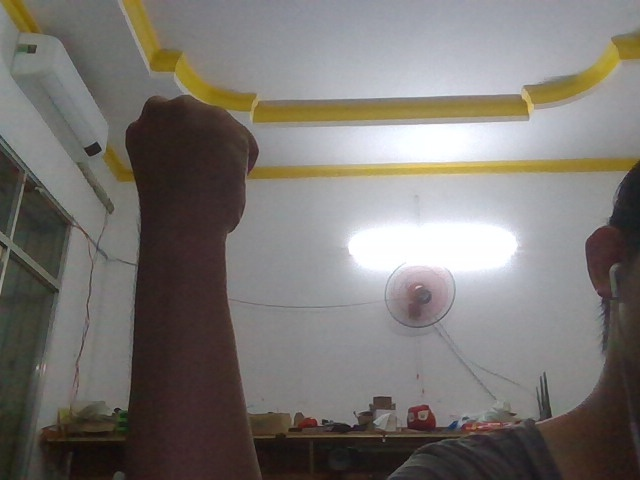fist: (85, 76, 278, 346)
